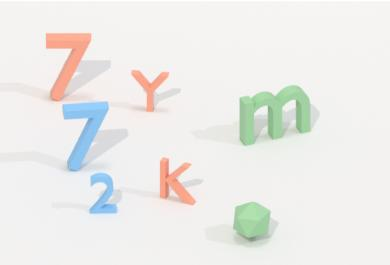0-TronCanh: (229, 198, 275, 243)
2: (85, 169, 120, 217)
7: (40, 28, 95, 103), (60, 98, 112, 173)
K: (157, 152, 198, 208)
Y: (126, 64, 174, 118)
m: (233, 80, 316, 149)
